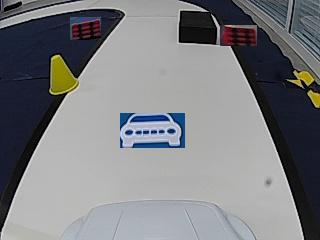block: (179, 11, 216, 44)
cone: (49, 53, 79, 93)
